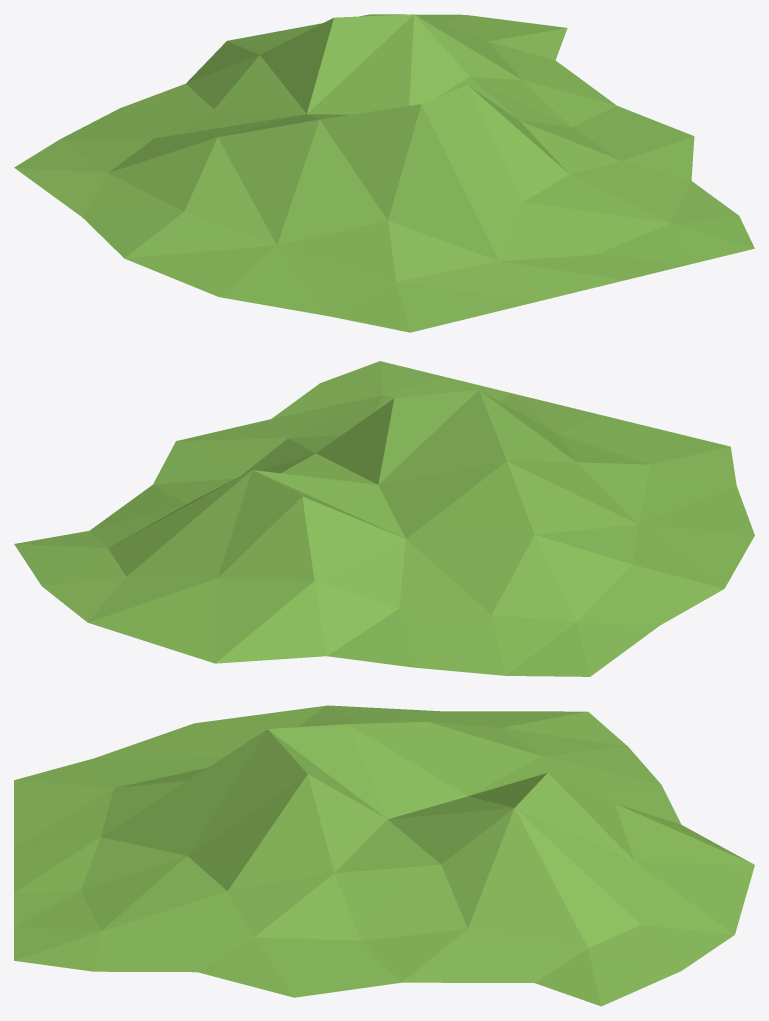
The model's file is MT_Mountain_S_a_20.fbx.
3 renders of one model, top to bottom at view 1: azimuth 30°, elevation 25°; view 2: azimuth 150°, elevation 25°; view 3: azimuth 270°, elevation 25°, orthographic. The views are drawn at different scales.
Visible parts, largest first — view 1: MT_Mountain_S_a_20; view 2: MT_Mountain_S_a_20; view 3: MT_Mountain_S_a_20.
Part boxes in pixels (bbox=[...]): MT_Mountain_S_a_20: bbox=[14, 14, 754, 332]; MT_Mountain_S_a_20: bbox=[14, 361, 754, 676]; MT_Mountain_S_a_20: bbox=[14, 705, 754, 1006].
Bounding box in the file's own units: 2070 × 386 × 2168.
